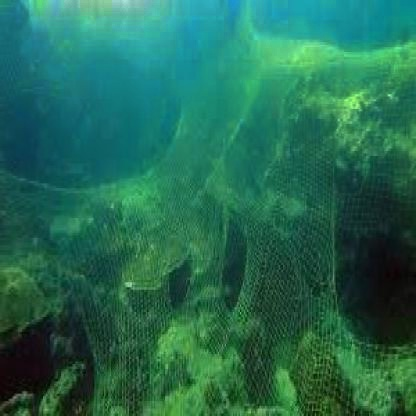net: (85, 59, 348, 416)
